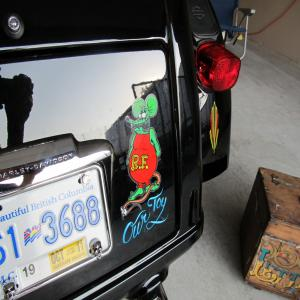Vehicle-registration-plate: (11, 133, 110, 288)
